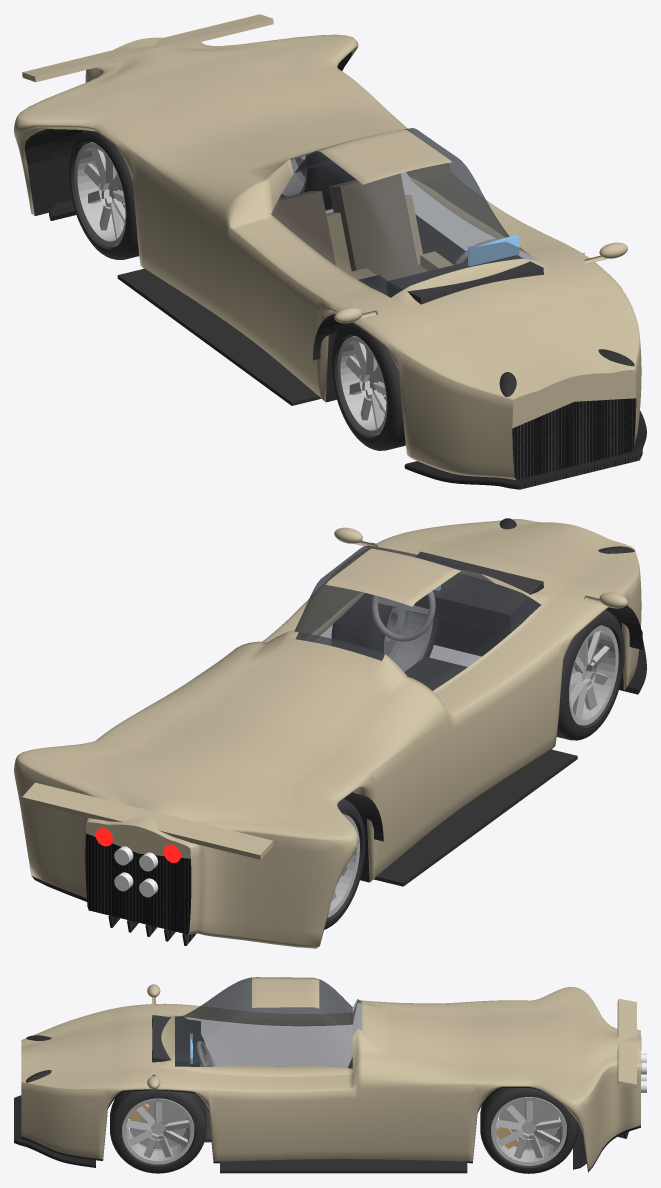
The model's file is pagani-utopia.glb.
The picture shows the model from 3 angles, top to bottom: view 1: azimuth 30°, elevation 25°; view 2: azimuth 150°, elevation 25°; view 3: azimuth 270°, elevation 25°; orthographic projection. The views are drawn at different scales.
Parts seen in each view (by area): view 1: Body_PrimaryPaint, Glass_Windows, Carbon_Exterior, Interior_Seats, WheelWells, Rim_RR, Rim_FR, Tire_FR, Underbody, Body_Spoiler, Tire_RR, Interior_Dashboard (+3 smaller); view 2: Body_PrimaryPaint, Glass_Windows, Carbon_Exterior, WheelWells, Interior_Dashboard, Body_Spoiler, Rim_FR, Tire_FR, Tire_FL, Underbody, Interior_SteeringWheel, Rim_FL (+4 smaller); view 3: Body_PrimaryPaint, Glass_Windows, WheelWells, Rim_RL, Tire_FL, Rim_FL, Tire_RL, Interior_Dashboard, Body_Spoiler, Carbon_Exterior, Underbody, BrakeDisc_RL (+2 smaller).
Part boxes in pixels (bbox=[...]): Body_PrimaryPaint: bbox=[14, 34, 641, 479]; Glass_Windows: bbox=[271, 128, 538, 297]; Carbon_Exterior: bbox=[49, 200, 646, 489]; Interior_Seats: bbox=[271, 173, 427, 280]; WheelWells: bbox=[50, 129, 584, 405]; Rim_RR: bbox=[74, 142, 126, 246]; Rim_FR: bbox=[337, 336, 387, 435]; Tire_FR: bbox=[331, 322, 405, 450]; Underbody: bbox=[24, 52, 351, 402]; Body_Spoiler: bbox=[22, 14, 273, 82]; Tire_RR: bbox=[68, 130, 139, 259]; Interior_Dashboard: bbox=[386, 255, 543, 304]; Body_PrimaryPaint: bbox=[14, 519, 641, 948]; Glass_Windows: bbox=[294, 545, 540, 690]; Carbon_Exterior: bbox=[85, 629, 646, 945]; WheelWells: bbox=[344, 542, 643, 886]; Interior_Dashboard: bbox=[389, 551, 543, 634]; Body_Spoiler: bbox=[22, 782, 273, 859]; Rim_FR: bbox=[569, 625, 618, 725]; Tire_FR: bbox=[556, 609, 624, 740]; Tire_FL: bbox=[331, 593, 438, 657]; Underbody: bbox=[32, 618, 623, 901]; Interior_SteeringWheel: bbox=[371, 591, 435, 641]; Rim_FL: bbox=[383, 607, 433, 671]; Body_PrimaryPaint: bbox=[21, 977, 640, 1170]; Glass_Windows: bbox=[175, 977, 362, 1068]; WheelWells: bbox=[220, 1159, 467, 1173]; Rim_RL: bbox=[491, 1097, 566, 1165]; Tire_FL: bbox=[110, 1090, 206, 1173]; Rim_FL: bbox=[122, 1098, 194, 1164]; Tire_RL: bbox=[480, 1088, 577, 1173]; Interior_Dashboard: bbox=[152, 1015, 200, 1066]; Body_Spoiler: bbox=[617, 998, 636, 1087]; Carbon_Exterior: bbox=[14, 1095, 628, 1169]; Underbody: bbox=[21, 1087, 640, 1172]; BrakeDisc_RL: bbox=[499, 1101, 558, 1151].
Size of the model in its own units: 2.06 by 1.17 by 4.67.
Materials: 16 (2 with a texture image).
